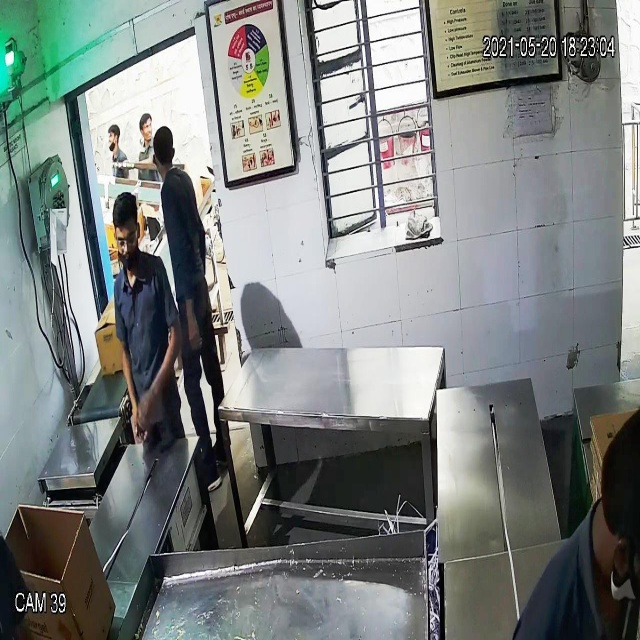Gafas: (115, 228, 139, 251)
